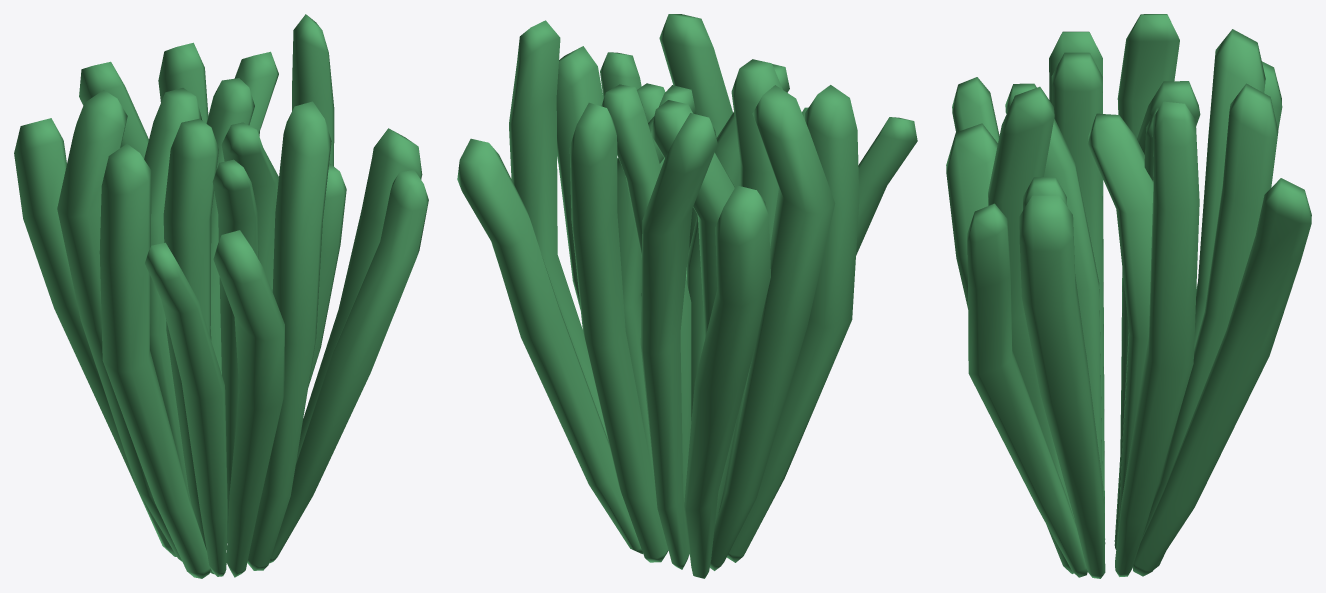
File: SM_PlantCorals_WobbleSausage_Placeholder.fbx
The picture shows the model from 3 angles, left to right: view 1: azimuth 30°, elevation 25°; view 2: azimuth 150°, elevation 25°; view 3: azimuth 270°, elevation 25°; orthographic projection. The views are drawn at different scales.
Visible parts, largest first — view 1: SM_PlantCorals_WobbleSausage; view 2: SM_PlantCorals_WobbleSausage; view 3: SM_PlantCorals_WobbleSausage.
Boxes of the visible parts, x1,y1,x2,y2 form: SM_PlantCorals_WobbleSausage: [14, 14, 428, 578]; SM_PlantCorals_WobbleSausage: [457, 14, 917, 578]; SM_PlantCorals_WobbleSausage: [946, 14, 1311, 578].
Size of the model in its own units: 95.7 by 148 by 94.05.
